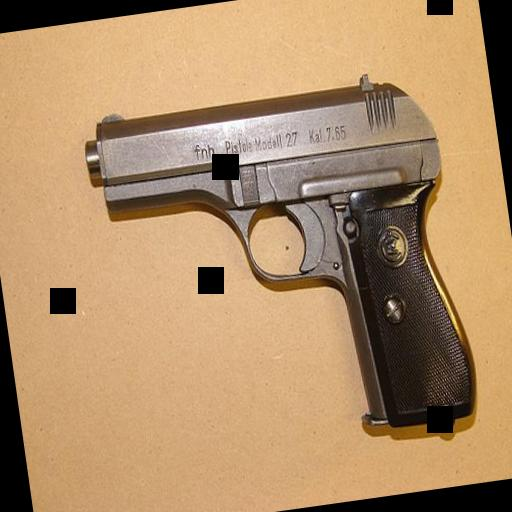Handgun: (76, 67, 480, 472)
